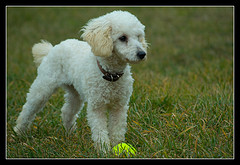tennis ball: (111, 142, 138, 157)
